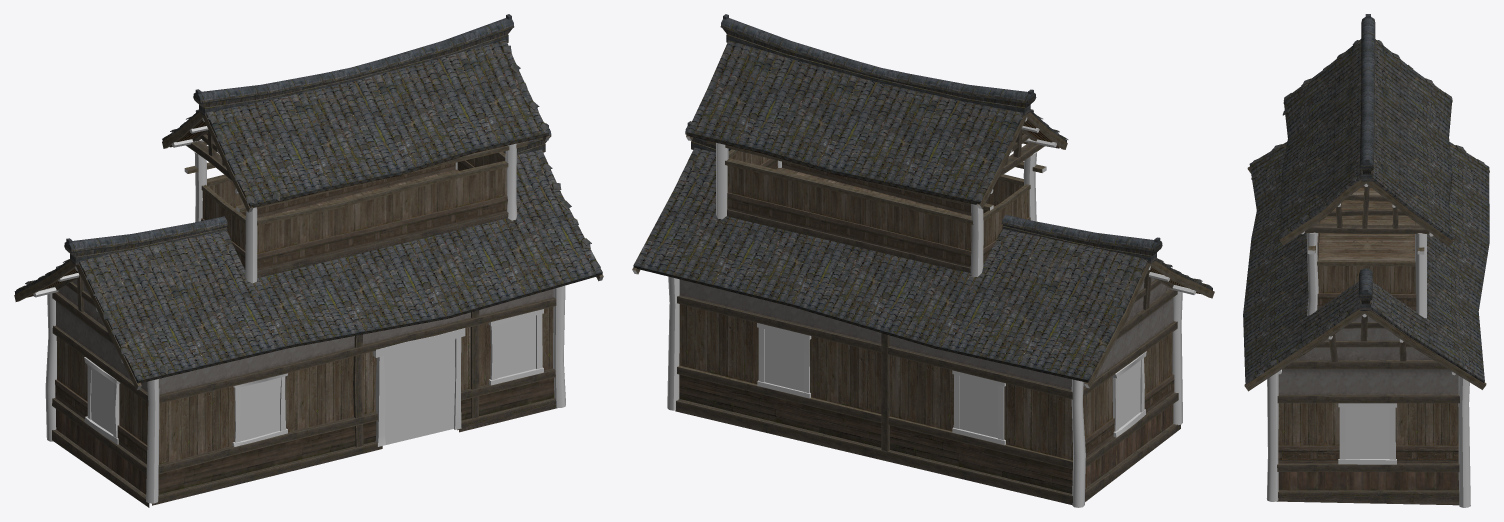
File: asiaArchi.gltf
The picture shows the model from 3 angles, left to right: view 1: azimuth 30°, elevation 25°; view 2: azimuth 150°, elevation 25°; view 3: azimuth 270°, elevation 25°; orthographic projection. The views are drawn at different scales.
Parts seen in each view (by area): view 1: v32, v11, v65, v110, v152, v85, v46, v104, v79, v48, v124, v55 (+31 smaller); view 2: v32, v11, v63, v89, v115, v85, v109, v116, v46, v114, v86, v90 (+23 smaller); view 3: v32, v11, v85, v75, v118, v117, v96, v127, v108, v177, v46, v97 (+18 smaller).
Part boxes in pixels (box(x1,y1,x2,y2)): v32: box(14, 149, 602, 383); v11: box(162, 39, 548, 207); v65: box(257, 167, 507, 270); v110: box(159, 351, 376, 464); v152: box(384, 339, 455, 444); v85: box(56, 289, 553, 394); v46: box(193, 14, 514, 107); v104: box(158, 421, 376, 494); v79: box(159, 297, 556, 403); v48: box(64, 216, 227, 256); v124: box(208, 162, 455, 218); v55: box(152, 441, 382, 505); v32: box(633, 147, 1212, 382); v11: box(687, 40, 1066, 204); v63: box(727, 166, 971, 267); v89: box(679, 374, 1072, 493); v115: box(809, 336, 953, 431); v85: box(679, 279, 1173, 389); v109: box(675, 399, 1072, 505); v116: box(679, 304, 758, 383); v46: box(720, 14, 1036, 107); v114: box(1004, 383, 1072, 460); v86: box(677, 295, 1072, 399); v90: box(677, 365, 1072, 469); v32: box(1243, 142, 1489, 384); v11: box(1280, 39, 1452, 240); v85: box(1278, 369, 1458, 394); v75: box(1318, 187, 1415, 260); v118: box(1395, 403, 1458, 463); v117: box(1278, 403, 1339, 463); v96: box(1278, 472, 1458, 490); v127: box(1317, 265, 1416, 311); v108: box(1276, 490, 1459, 505); v177: box(1345, 407, 1389, 459); v46: box(1360, 14, 1375, 174); v97: box(1296, 316, 1432, 360).
Size of the model in its own units: 0.7762 by 0.5614 by 0.3626.
